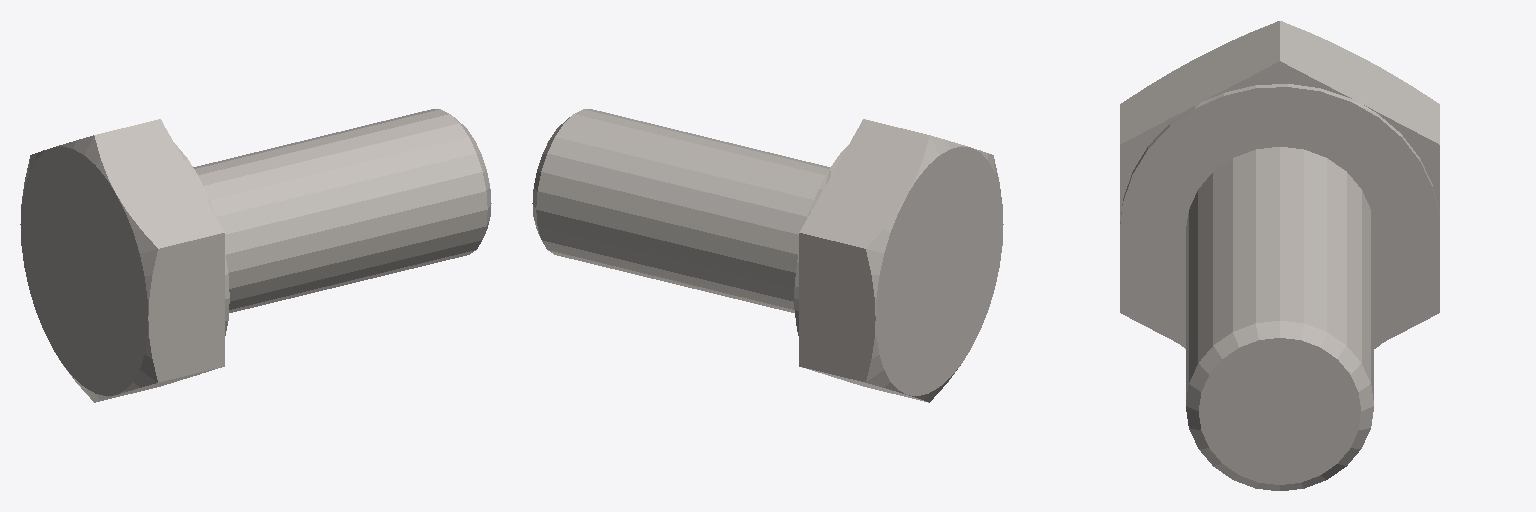
robot.urdf — bout_m20:
<?xml version="1.0" encoding="utf-8"?>
<!-- This URDF was automatically created by SolidWorks to URDF Exporter! Originally created by [author] ([email redacted]) 
     Commit Version: 1.5.1-0-g916b5db  Build Version: 1.5.7152.31018
     For more information, please see http://wiki.ros.org/sw_urdf_exporter -->
<robot
  name="bout_m20">
  <link
    name="base_link">
    <inertial>
      <origin
        xyz="0.0214850394722903 4.11705222364641E-09 3.45128141200471E-18"
        rpy="0 0 0" />
      <mass
        value="0.296" />
      <inertia
        ixx="2.67302136936691E-06"
        ixy="2.00410919388457E-12"
        ixz="2.02717589161746E-14"
        iyy="9.27475891017445E-06"
        iyz="4.76402678647064E-14"
        izz="9.27476716738739E-06" />
    </inertial>
    <visual>
      <origin
        xyz="0 0 0"
        rpy="0 0 0" />
      <geometry>
        <mesh
          filename="package://suii_description/Field/objects/meshes/bolt_M20x100.STL" />
      </geometry>
      <material
        name="">
        <color
          rgba="0.776470588235294 0.756862745098039 0.737254901960784 1" />
      </material>
    </visual>
    <collision>
      <origin
        xyz="0 0 0"
        rpy="0 0 0" />
      <geometry>
        <mesh
          filename="package://suii_description/Field/objects/meshes/bolt_M20x100.STL" />
      </geometry>
    </collision>
  </link>
</robot>

--- Render facts (derived) ---
3 views of the same robot in one strip: view 1: azimuth 30°, elevation 25°; view 2: azimuth 150°, elevation 25°; view 3: azimuth 270°, elevation 25° (orthographic).
Robot: bout_m20 — 1 links, 0 joints (none); root link base_link; default pose: every joint at zero.
Visible links, largest first — view 1: base_link; view 2: base_link; view 3: base_link.
Link boxes in pixels (box(x1,y1,x2,y2)): base_link: box(20, 109, 491, 402); base_link: box(532, 109, 1003, 402); base_link: box(1120, 21, 1439, 490).
Size in the robot's own frame: 0.0575 by 0.034 by 0.0393 metres.
Meshes: 1 distinct files referenced, 1 mesh visuals loaded (1 binary STL).
